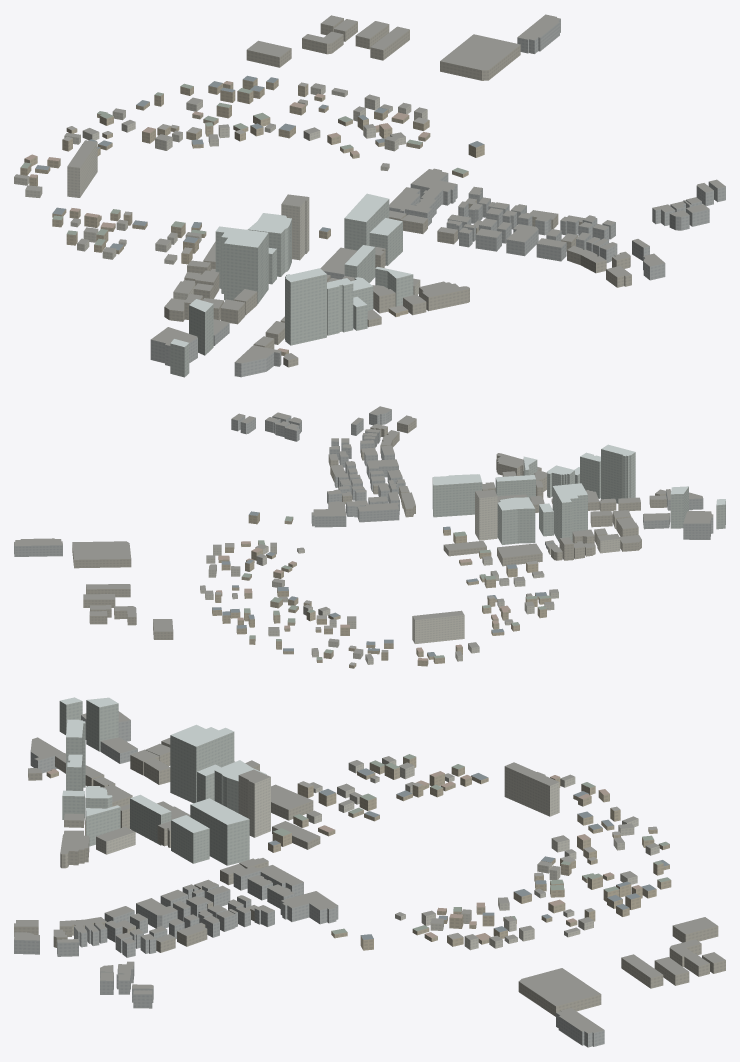
The picture shows the model from 3 angles, top to bottom: view 1: azimuth 30°, elevation 25°; view 2: azimuth 150°, elevation 25°; view 3: azimuth 270°, elevation 25°; orthographic projection. The views are drawn at different scales.
Visible parts, largest first — view 1: ctx-roof, ctx-distant-tall, ctx-commercial, ctx-other, ctx-house, ctx-apartments, ctx-distant-tall-roof, ctx-house-roof-2, ctx-house-roof-0, ctx-house-roof-3; view 2: ctx-roof, ctx-distant-tall, ctx-commercial, ctx-other, ctx-apartments, ctx-house, ctx-distant-tall-roof, ctx-house-roof-2, ctx-house-roof-0, ctx-house-roof-3; view 3: ctx-roof, ctx-distant-tall, ctx-commercial, ctx-other, ctx-apartments, ctx-house, ctx-distant-tall-roof, ctx-house-roof-2, ctx-house-roof-0, ctx-house-roof-3.
Boxes of the visible parts, x1=… form: ctx-roof: x1=14, y1=14, x2=725, y2=363; ctx-distant-tall: x1=170, y1=199, x2=413, y2=377; ctx-commercial: x1=150, y1=17, x2=725, y2=377; ctx-other: x1=164, y1=18, x2=631, y2=367; ctx-house: x1=20, y1=78, x2=484, y2=355; ctx-apartments: x1=14, y1=85, x2=427, y2=299; ctx-distant-tall-roof: x1=170, y1=193, x2=412, y2=346; ctx-house-roof-2: x1=35, y1=75, x2=484, y2=250; ctx-house-roof-0: x1=20, y1=83, x2=468, y2=245; ctx-house-roof-3: x1=25, y1=81, x2=429, y2=352; ctx-roof: x1=14, y1=406, x2=713, y2=659; ctx-distant-tall: x1=432, y1=449, x2=725, y2=544; ctx-commercial: x1=14, y1=409, x2=713, y2=556; ctx-other: x1=72, y1=417, x2=666, y2=639; ctx-apartments: x1=200, y1=473, x2=620, y2=664; ctx-house: x1=212, y1=513, x2=551, y2=668; ctx-distant-tall-roof: x1=432, y1=444, x2=725, y2=512; ctx-house-roof-2: x1=212, y1=511, x2=547, y2=656; ctx-house-roof-0: x1=242, y1=516, x2=551, y2=659; ctx-house-roof-3: x1=216, y1=541, x2=510, y2=660; ctx-roof: x1=14, y1=711, x2=725, y2=1033; ctx-distant-tall: x1=59, y1=700, x2=266, y2=865; ctx-commercial: x1=14, y1=715, x2=604, y2=1047; ctx-other: x1=14, y1=741, x2=725, y2=1016; ctx-apartments: x1=96, y1=758, x2=659, y2=950; ctx-house: x1=46, y1=757, x2=671, y2=950; ctx-distant-tall-roof: x1=60, y1=697, x2=266, y2=832; ctx-house-roof-2: x1=268, y1=768, x2=669, y2=939; ctx-house-roof-0: x1=273, y1=754, x2=670, y2=934; ctx-house-roof-3: x1=47, y1=769, x2=641, y2=940.
Bounding box in the file's own units: 673 × 77.2 × 634.
Materials: 11 (5 with a texture image).
